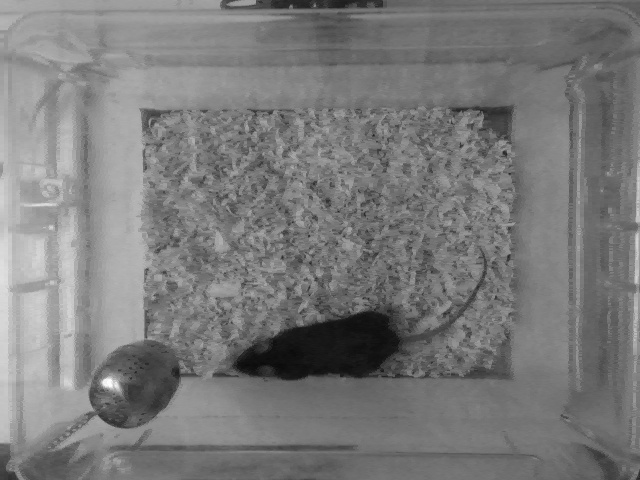mice: (228, 241, 497, 385)
